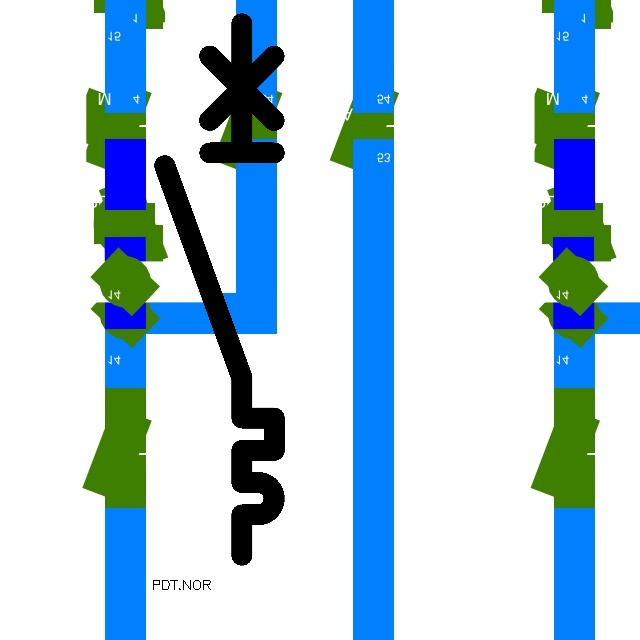interruptor_termomagnetico: (151, 10, 288, 569)
